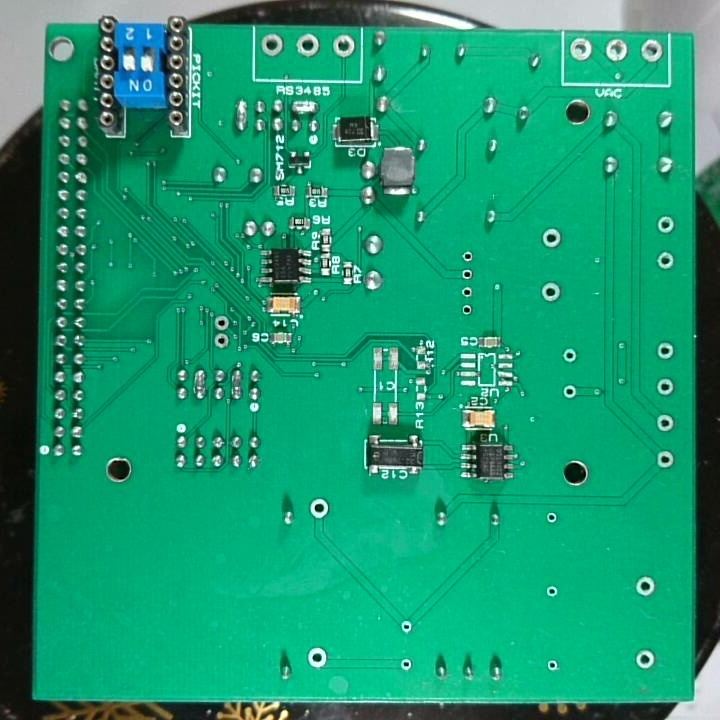F: (259, 31, 287, 60), (294, 32, 323, 60), (603, 35, 630, 64), (330, 32, 357, 59), (305, 642, 329, 672), (569, 35, 593, 63), (307, 495, 331, 523), (639, 38, 663, 65), (653, 447, 677, 473), (634, 646, 657, 672), (539, 279, 562, 305), (633, 575, 657, 599), (654, 375, 677, 399), (655, 410, 677, 435), (655, 247, 675, 273), (538, 227, 561, 249), (655, 339, 676, 363), (656, 212, 676, 235), (211, 331, 231, 354), (459, 298, 478, 320), (211, 312, 231, 332), (561, 345, 577, 367), (459, 248, 478, 266), (459, 264, 476, 283), (459, 281, 476, 300), (542, 583, 560, 600), (397, 618, 414, 636), (397, 656, 415, 673), (561, 383, 577, 402), (545, 656, 560, 675), (544, 508, 557, 529)
P: (288, 95, 321, 116), (232, 96, 248, 134), (228, 365, 243, 403), (191, 368, 208, 400)
